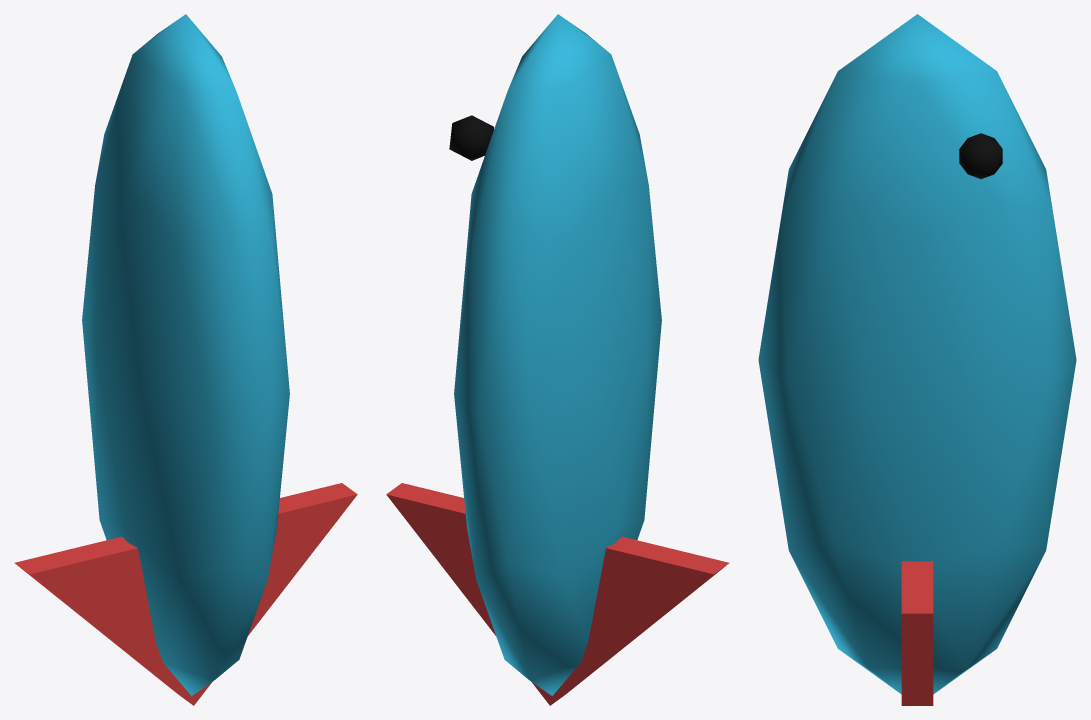
The model's file is neon_tetra.glb.
3 views of the same model, side by side, from view 1: azimuth 30°, elevation 25°; view 2: azimuth 150°, elevation 25°; view 3: azimuth 270°, elevation 25° (orthographic).
Parts seen in each view (by area): view 1: neon_tetra_v0; view 2: neon_tetra_v0; view 3: neon_tetra_v0.
Part boxes in pixels (box(x1,y1,x2,y2)): neon_tetra_v0: box(14, 14, 357, 705); neon_tetra_v0: box(386, 14, 729, 705); neon_tetra_v0: box(758, 14, 1076, 705).
Size of the model in its own units: 0.12 by 0.24 by 0.1.
